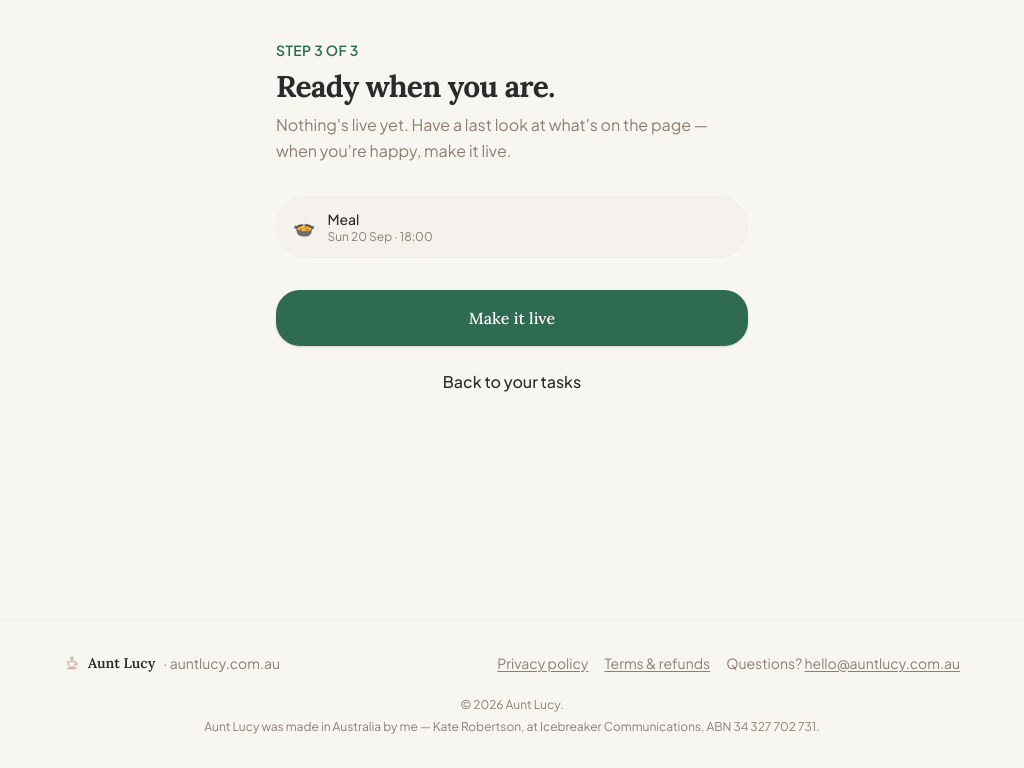
it: going live takes the button AND the confirm › the confirm says 'Anyone with the link' — Kate's ruled wording, 14 Sep
This screenshot has width=1024, height=768.
Click the button "Make it live": (512, 318) x1=276 y1=290 x2=748 y2=346
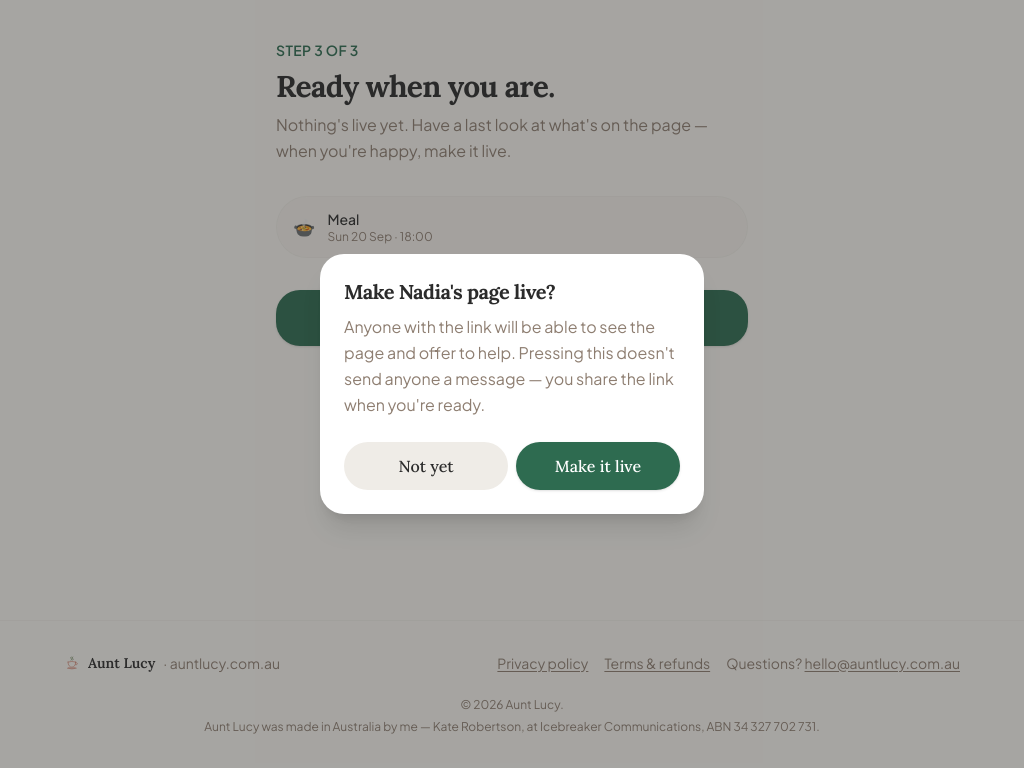
Check: the text "Anyone with the link" is shown, box x1=344 y1=316 x2=675 y2=415
